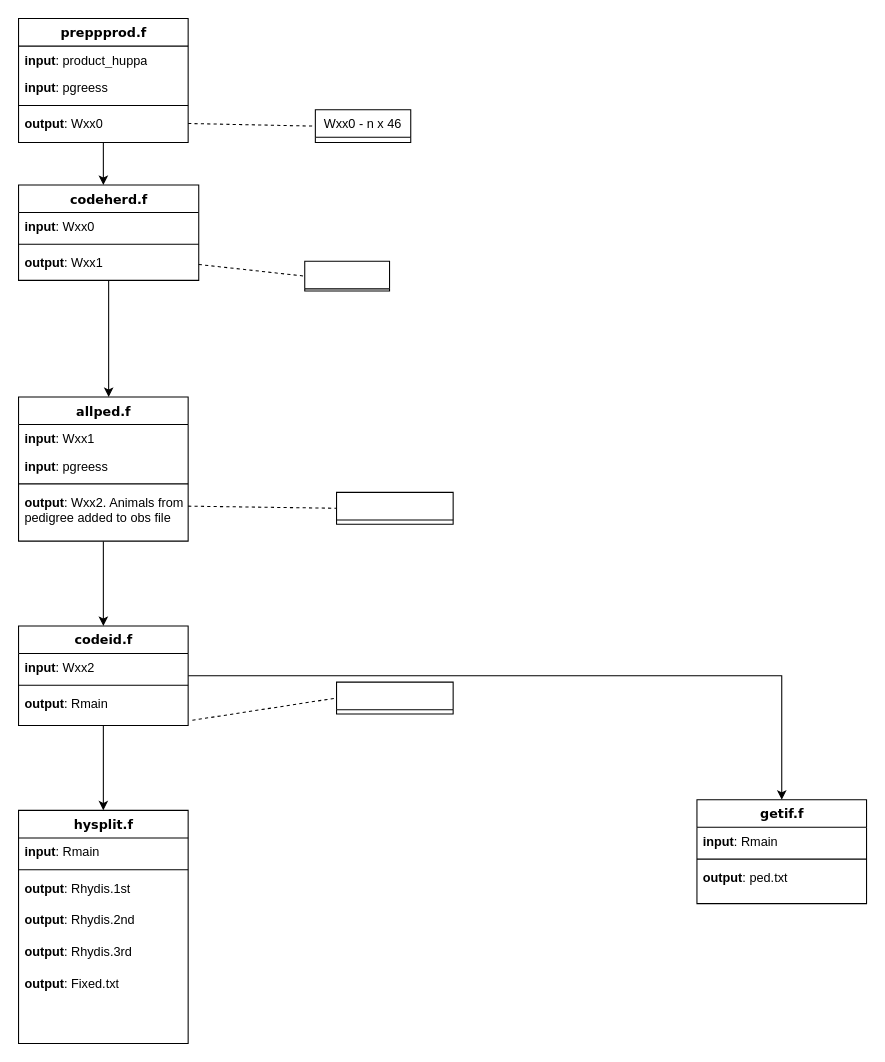
Image size: 885x1062. Some labels were removed from this diagram. Each missing label, with the box of its shape:
Rmain- n x 40: (335, 681, 453, 714)
Wxx1 n x 40: (304, 260, 390, 291)
Wxx2 - n x 39: (335, 491, 453, 524)
